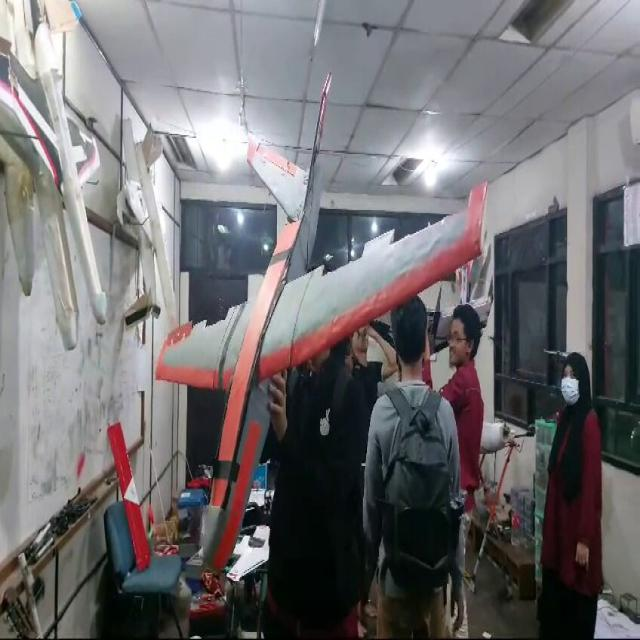plane: (153, 68, 493, 576)
